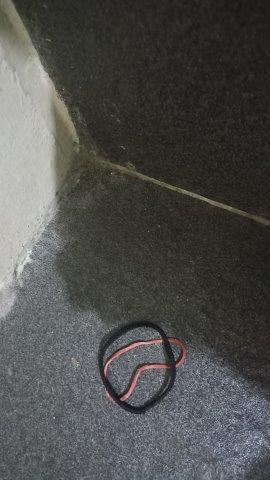karet: (98, 321, 187, 415)
